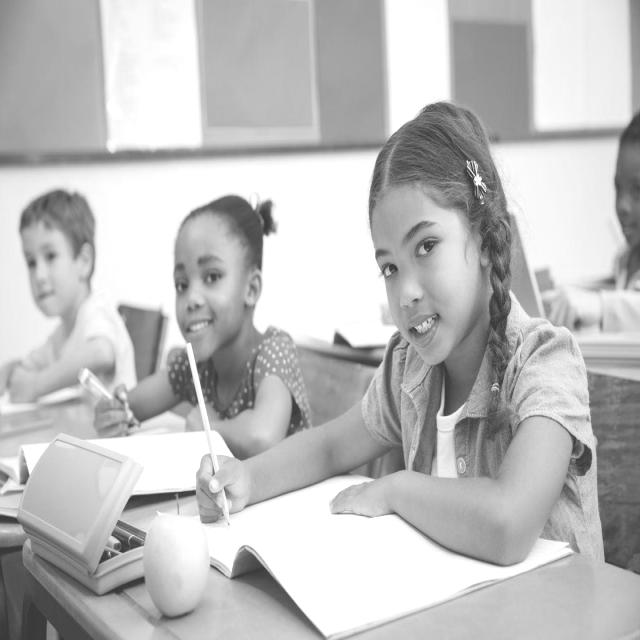face_nomask: (359, 178, 506, 349), (163, 238, 248, 350), (19, 224, 89, 311)
hand_noglove: (175, 446, 255, 540), (328, 472, 394, 523), (92, 383, 138, 449)
head_nohelmet: (352, 82, 512, 200), (166, 172, 278, 246), (10, 173, 104, 232)
person: (364, 140, 602, 559), (150, 204, 308, 451), (4, 190, 133, 410)
